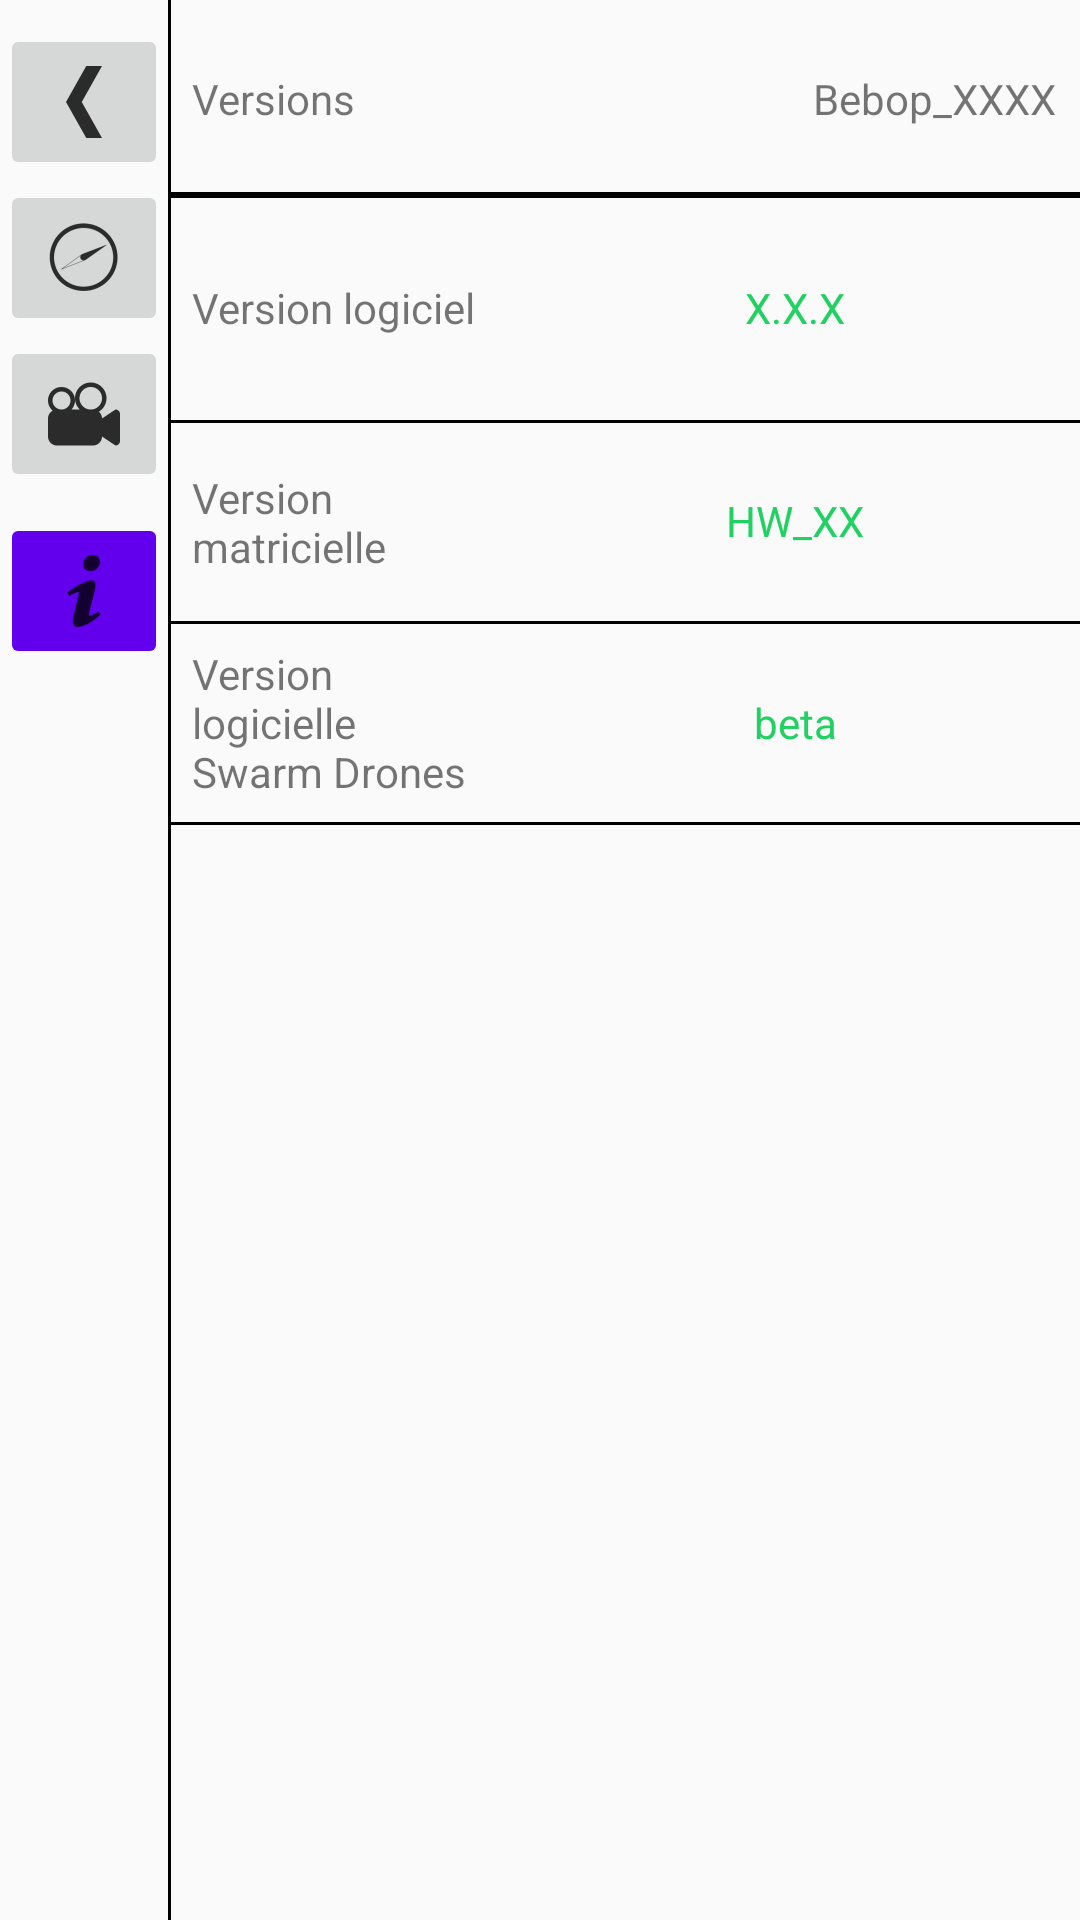

Icon bounding boxes for this 1080*1920 phone screenshot, format (x1, y1, x2, y2):
bouton retour: (12, 42, 156, 162)
